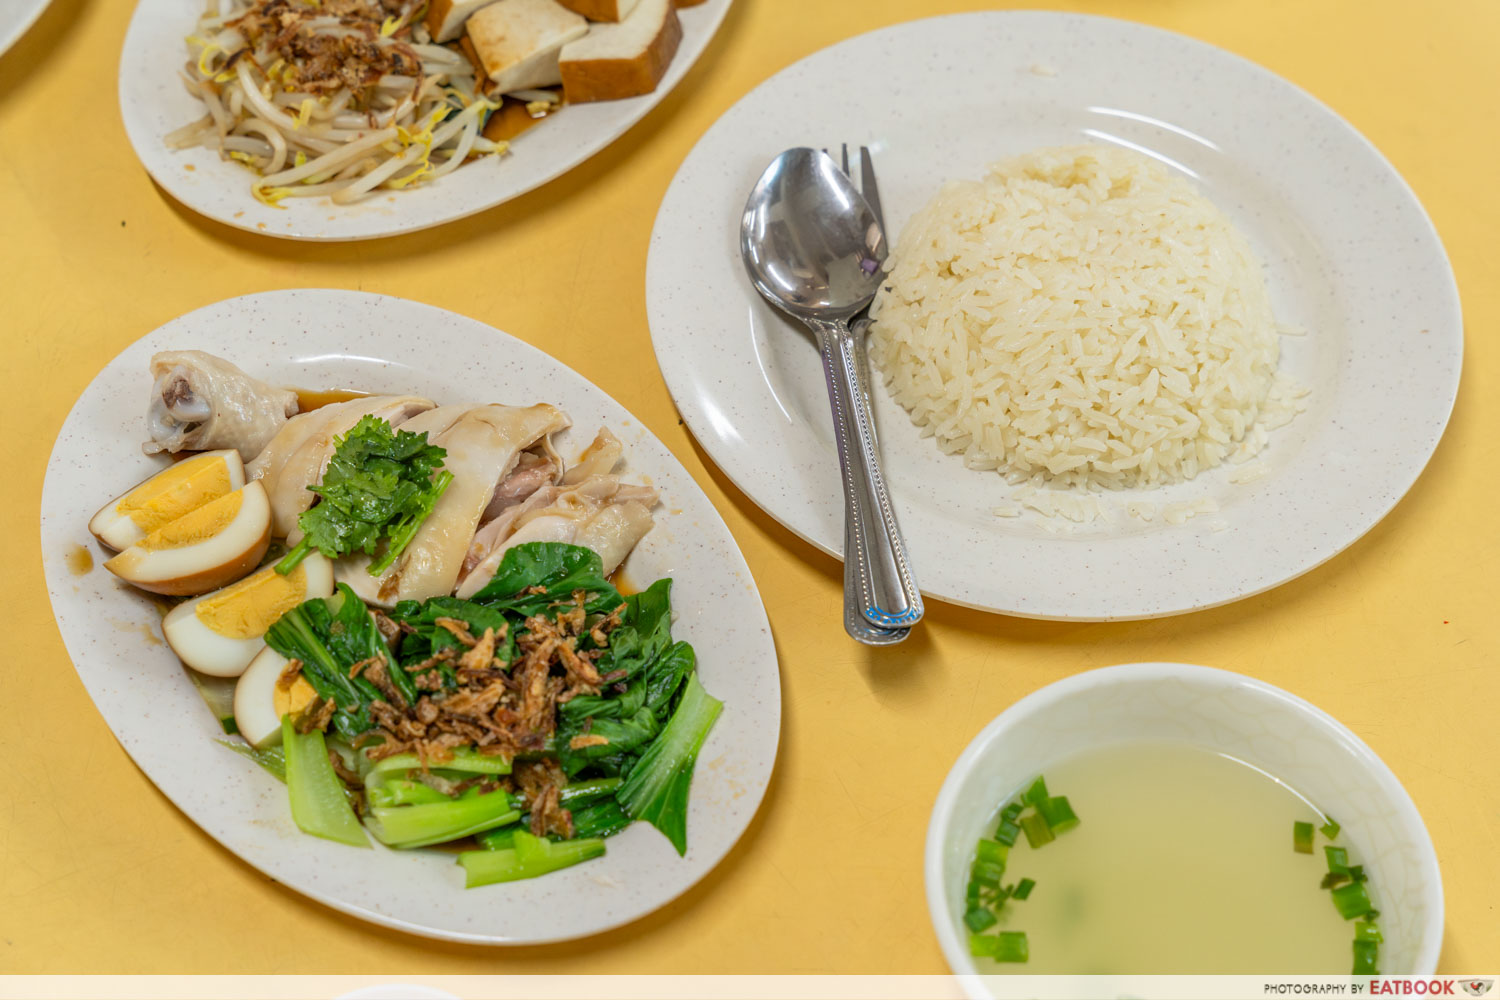Steamed Chicken Rice: (143, 311, 674, 635)
